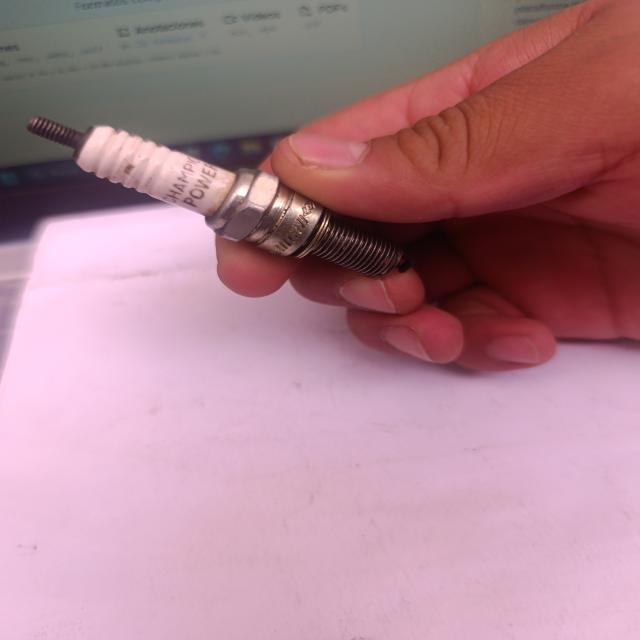bujia: (27, 117, 413, 276)
